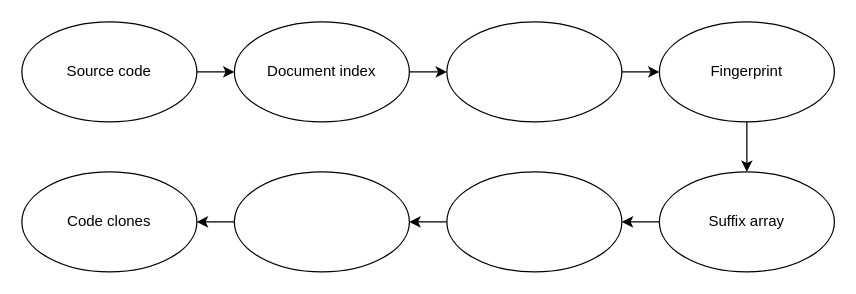
This 856x294 diagram has some shape labels left out. The shapes that lost their labels are listed below. From the top down, each one's centre as x and y in pixels, then its label:
[534,71]: Fragment selection
[321,221]: Source-mapping
[534,221]: Clone extraction
